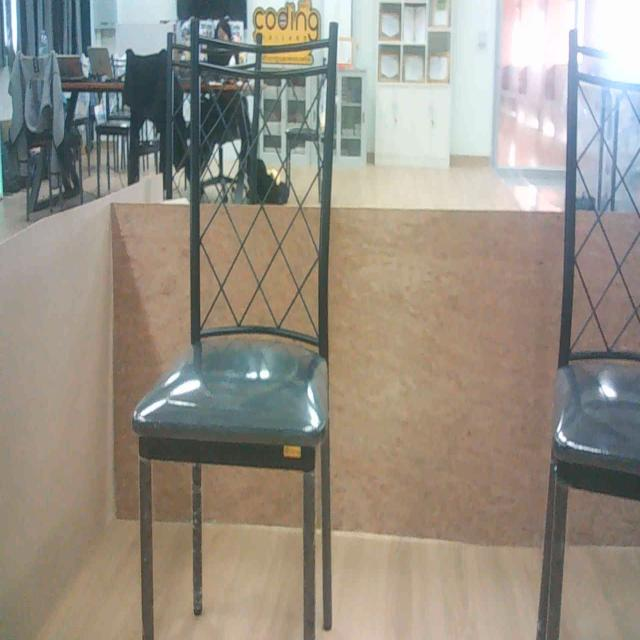emtpy: (162, 46, 342, 640), (551, 8, 639, 640)
